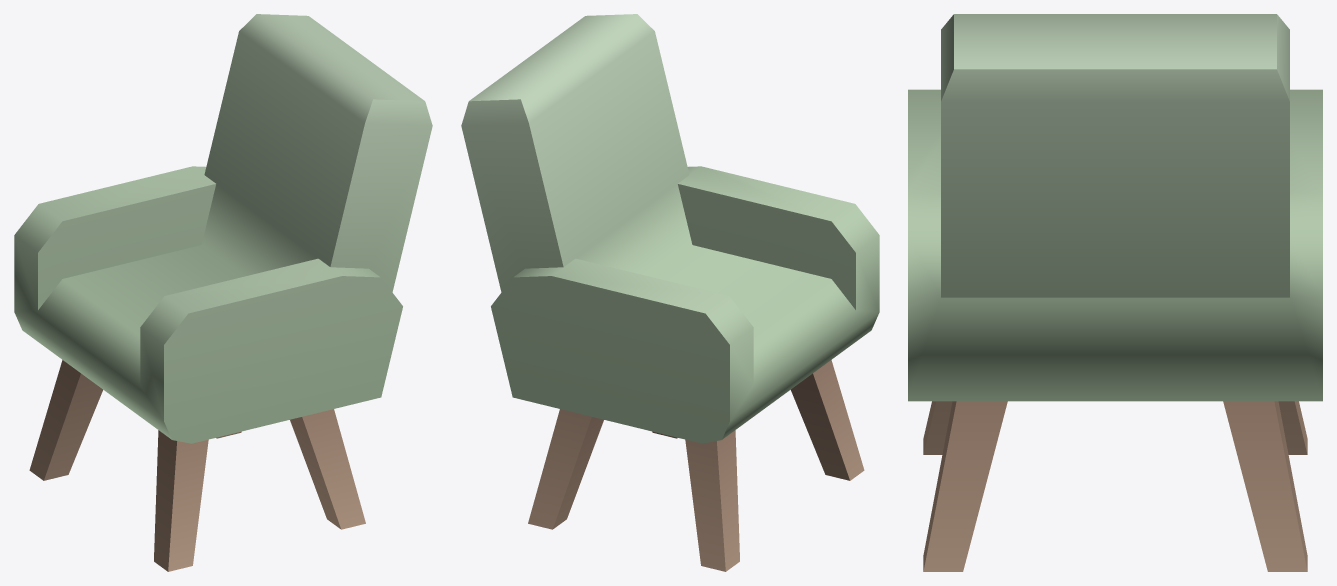
The model's file is chair-comfy-legs.glb.
3 views of the same model, side by side, from view 1: azimuth 30°, elevation 25°; view 2: azimuth 150°, elevation 25°; view 3: azimuth 270°, elevation 25° (orthographic). The views are drawn at different scales.
Parts seen in each view (by area): view 1: chair-comfy-legs; view 2: chair-comfy-legs; view 3: chair-comfy-legs.
Part boxes in pixels (x1,y1,x2,y2): chair-comfy-legs: (14, 14, 432, 571); chair-comfy-legs: (461, 14, 879, 571); chair-comfy-legs: (908, 14, 1322, 571).
Size of the model in its own units: 0.5094 by 0.7146 by 0.4711.
